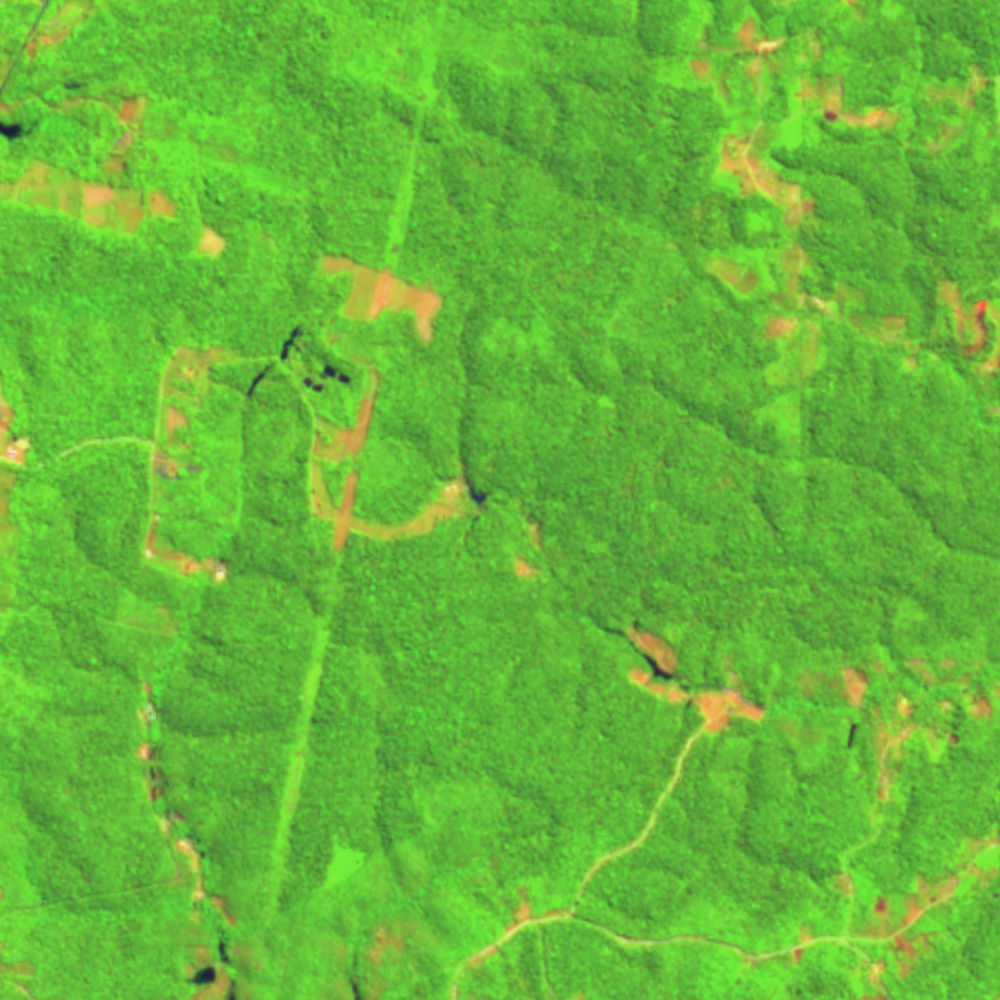legal: (701, 242, 1000, 403), (683, 16, 1000, 152), (129, 679, 246, 1000), (790, 834, 1000, 1000), (790, 651, 994, 801), (1, 83, 183, 238), (142, 342, 241, 587), (583, 610, 768, 732), (244, 325, 384, 462), (299, 468, 486, 543), (317, 249, 444, 347), (714, 119, 819, 234), (325, 917, 412, 1000), (21, 1, 96, 58), (1, 394, 33, 525), (508, 510, 551, 590), (194, 226, 230, 254)
